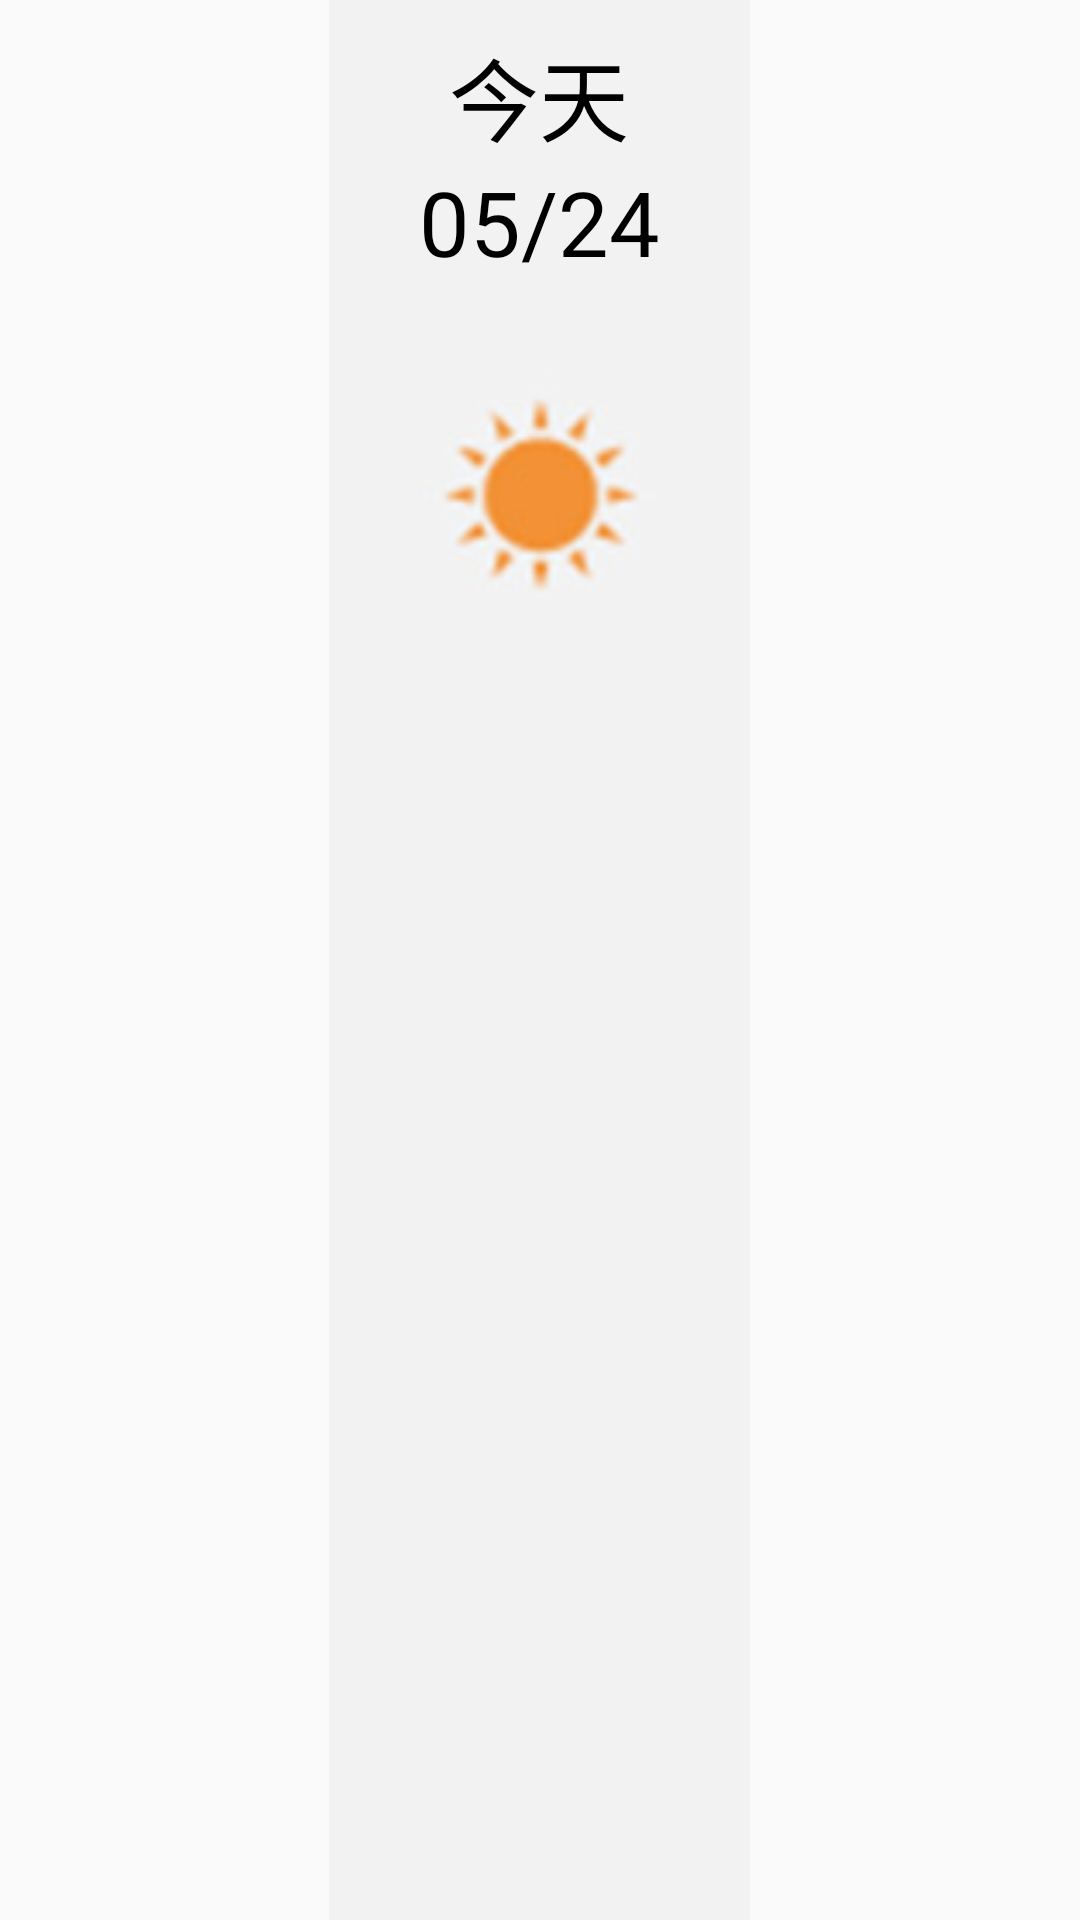

Icon bounding boxes for this 1080 x 1920 phone screenshot, format (x1, y1, x2, y2):
qing: (446, 400, 637, 589)
